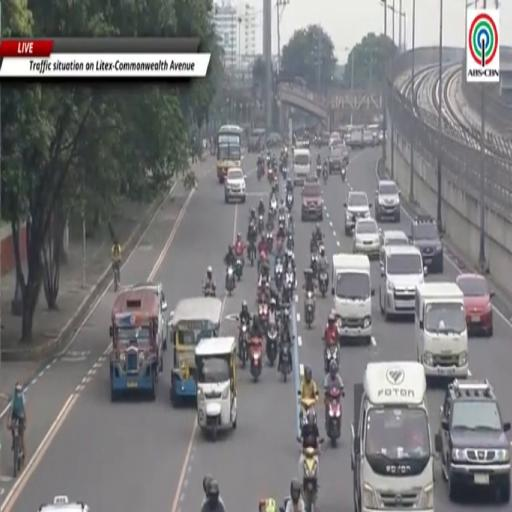bus: (217, 125, 243, 183)
car: (435, 379, 510, 503), (379, 245, 425, 319), (456, 274, 494, 335), (410, 216, 443, 273), (344, 191, 371, 235), (353, 218, 380, 258), (375, 181, 400, 221), (380, 230, 409, 263), (301, 180, 323, 221), (38, 495, 89, 511), (225, 168, 245, 203), (380, 230, 409, 246), (328, 146, 343, 174), (328, 133, 341, 148)
jeepney: (110, 288, 163, 401), (168, 297, 222, 405), (195, 336, 236, 440), (131, 282, 167, 349)
motorcycle: (326, 389, 344, 446), (303, 447, 318, 511), (11, 419, 24, 478), (249, 338, 262, 381), (266, 324, 278, 366), (279, 343, 291, 382), (300, 397, 315, 428), (324, 344, 339, 373), (304, 291, 315, 329), (239, 323, 248, 367), (258, 302, 269, 331), (274, 259, 284, 290), (282, 275, 293, 303), (226, 266, 235, 296), (319, 268, 328, 297), (285, 268, 295, 292), (248, 240, 256, 266), (282, 306, 290, 331), (310, 252, 318, 276), (235, 258, 243, 281), (113, 264, 119, 292), (269, 197, 277, 217), (276, 235, 284, 254), (256, 164, 264, 182), (203, 285, 215, 297), (286, 192, 293, 212), (266, 232, 273, 252), (266, 215, 274, 231), (287, 233, 294, 250), (272, 170, 278, 188), (258, 215, 264, 233), (278, 214, 285, 228), (340, 166, 346, 182), (268, 166, 273, 183), (323, 167, 328, 183), (282, 165, 287, 179), (317, 165, 321, 179), (266, 155, 270, 168)
truck: (351, 361, 434, 511), (415, 282, 468, 378)
